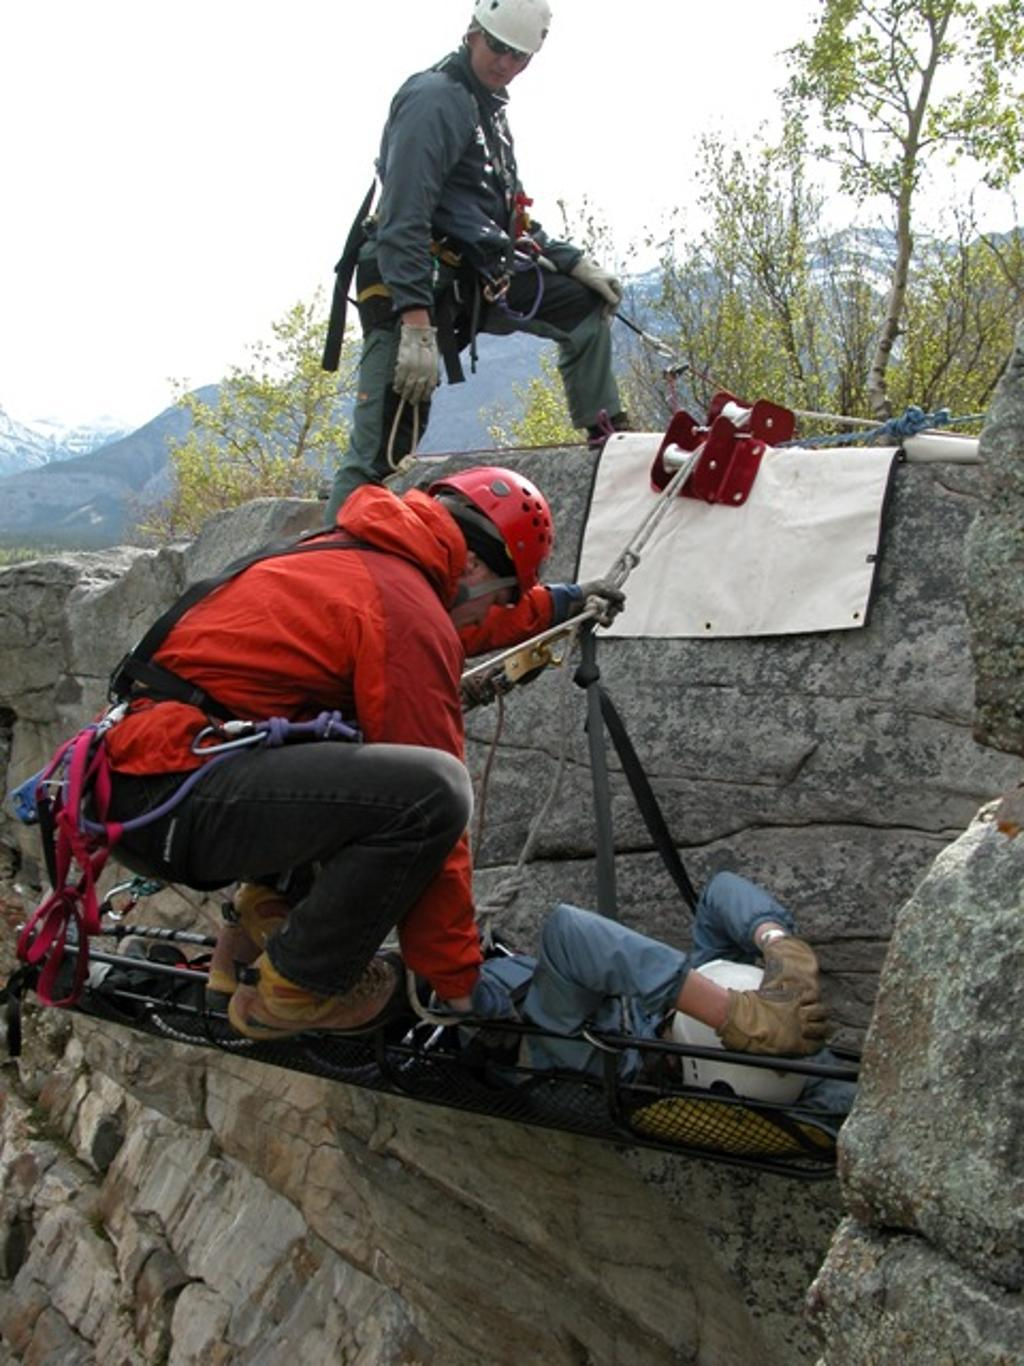face: (473, 22, 532, 97)
